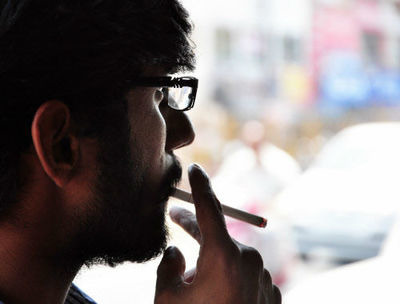cigarette: (165, 177, 273, 231)
